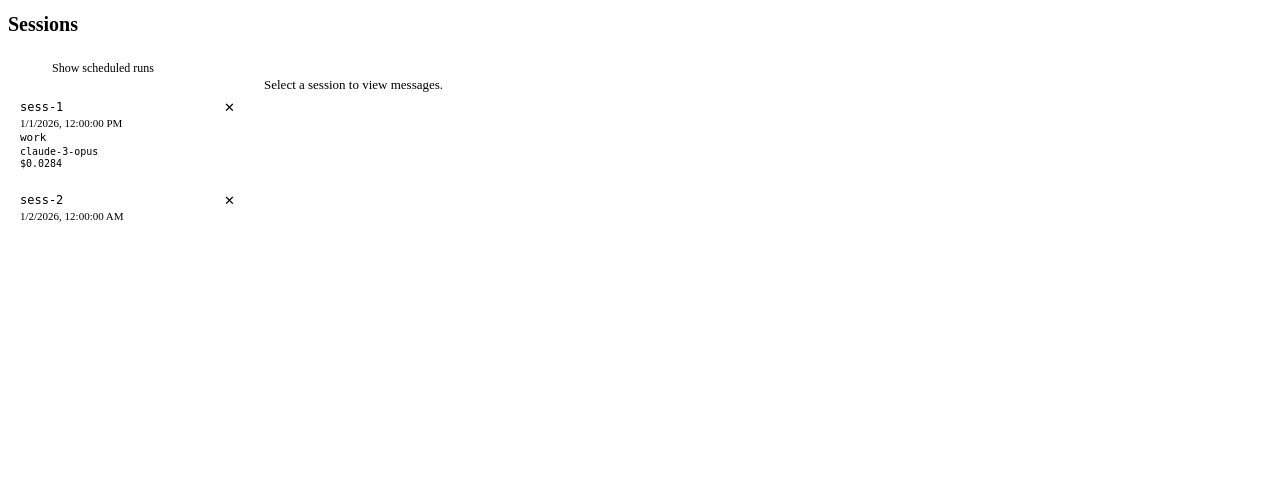
Sessions page › clicking session loads messages
Expected: the text "sess-1" is shown, [20,100,63,114]
Step 1. Click the button "sess-1" → (42, 107), box [8,90,248,179]
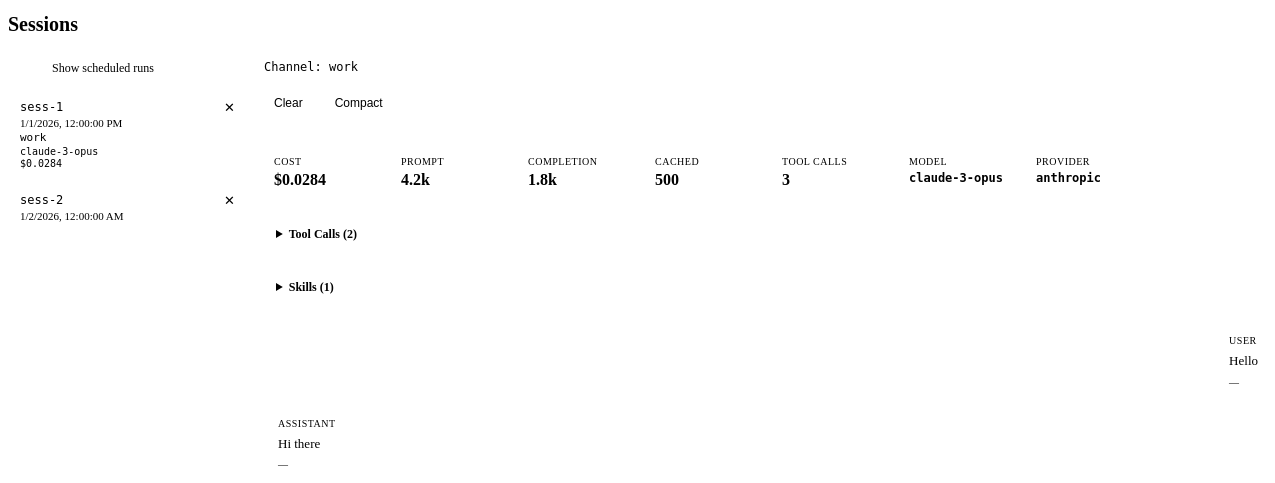
Expected: the text "Hello" is shown, [1229,351,1258,371]
Expected: the text "Hi there" is shown, [278,436,320,451]
